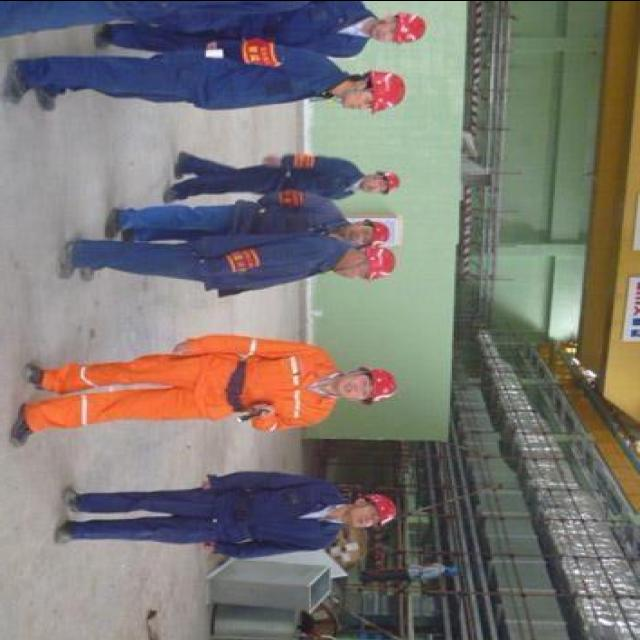helmet: (364, 64, 406, 122), (362, 488, 401, 536), (361, 242, 399, 288), (364, 362, 402, 403), (364, 213, 403, 250), (392, 12, 430, 44), (379, 165, 409, 196)
